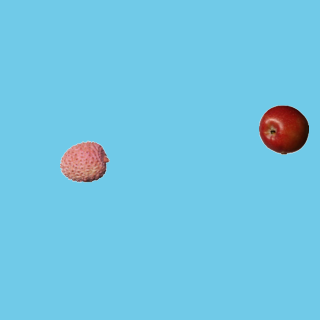Apple Braeburn: (258, 104, 308, 154)
Lychee: (59, 136, 109, 186)
